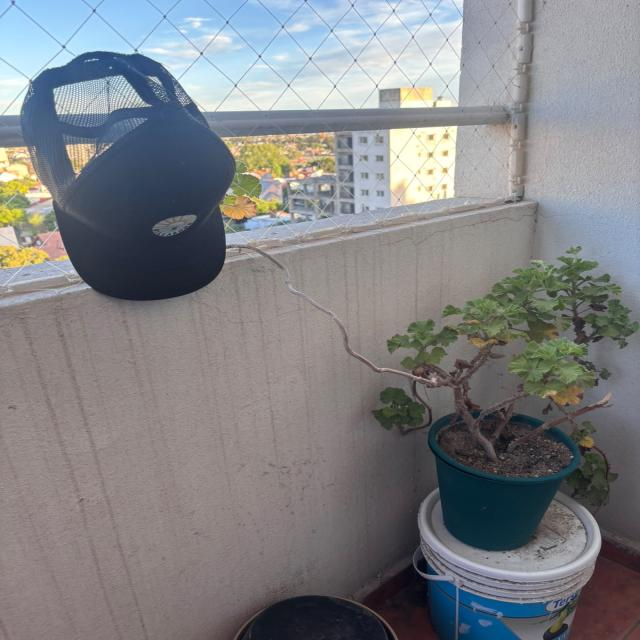Gorra: (18, 44, 243, 309)
